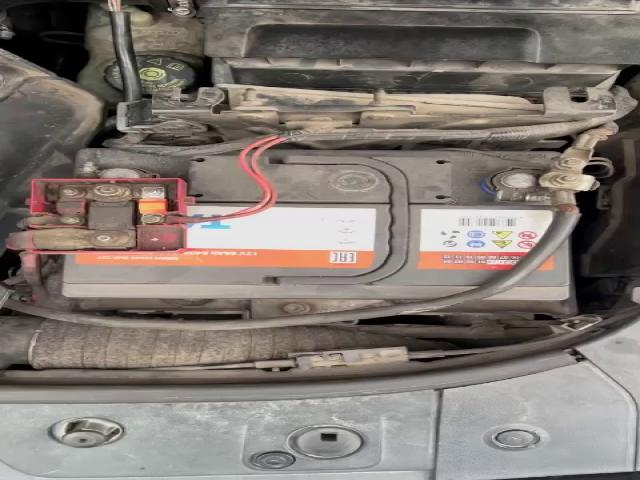accumulator: (6, 146, 589, 301)
